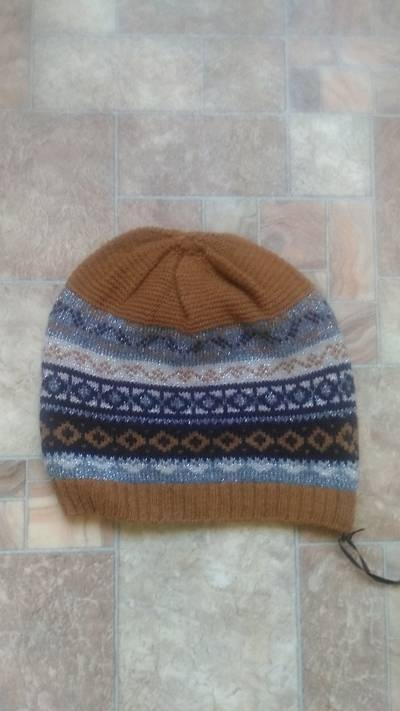Hat: (23, 189, 390, 586)
